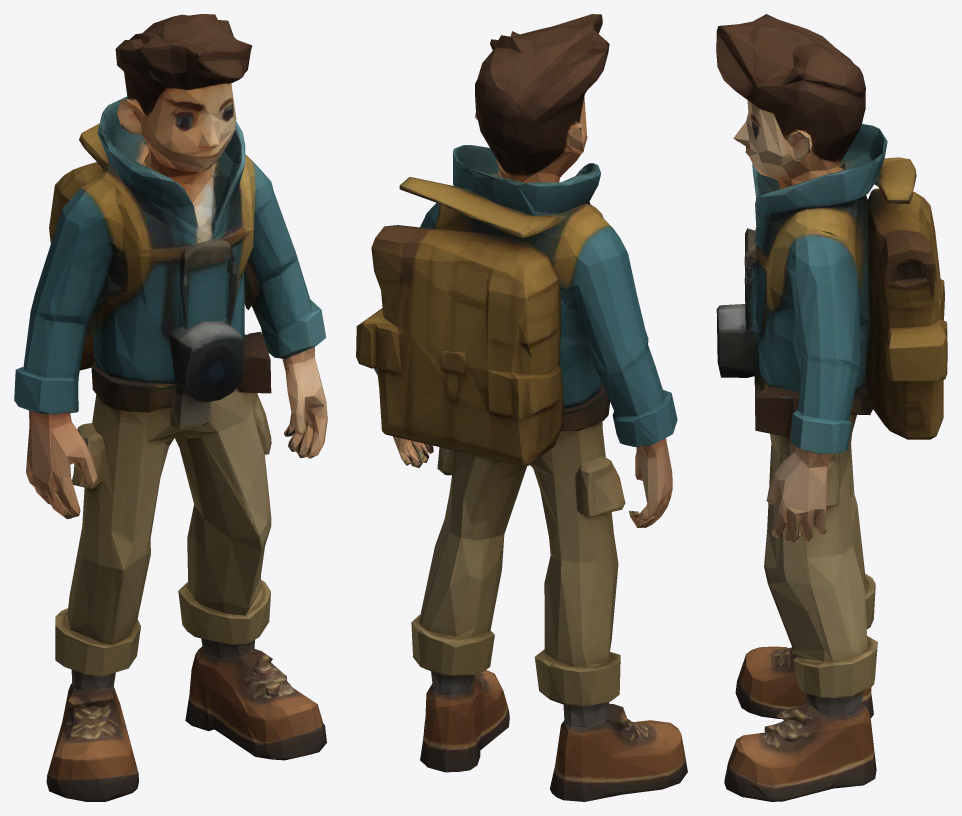
The model's file is player.glb.
3 views of the same model, side by side, from view 1: azimuth 30°, elevation 25°; view 2: azimuth 150°, elevation 25°; view 3: azimuth 270°, elevation 25° (orthographic). The views are drawn at different scales.
Parts seen in each view (by area): view 1: world; view 2: world; view 3: world.
Boxes of the visible parts, x1,y1,x2,y2 form: world: [14, 14, 327, 801]; world: [356, 14, 687, 801]; world: [716, 14, 947, 801].
Size of the model in its own units: 0.4263 by 0.9973 by 0.2948.
1 material, 1 textured.
